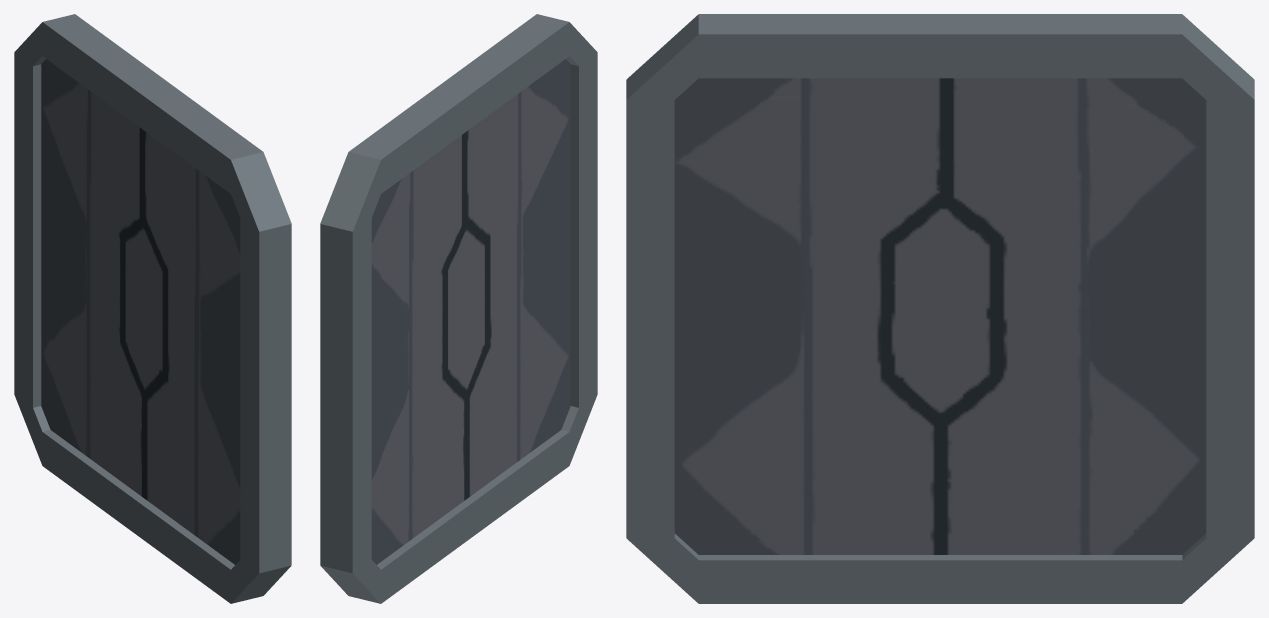
File: lobby-door.glb
3 renders of one model, left to right at view 1: azimuth 30°, elevation 25°; view 2: azimuth 150°, elevation 25°; view 3: azimuth 270°, elevation 25°, orthographic. The views are drawn at different scales.
Visible parts, largest first — view 1: Cube; view 2: Cube; view 3: Cube.
Part boxes in pixels (x1,y1,x2,y2): Cube: [14, 14, 291, 603]; Cube: [320, 14, 597, 603]; Cube: [626, 14, 1254, 603].
Bounding box in the file's own units: 0.4 × 5.2 × 5.2.
1 material, 1 textured.
